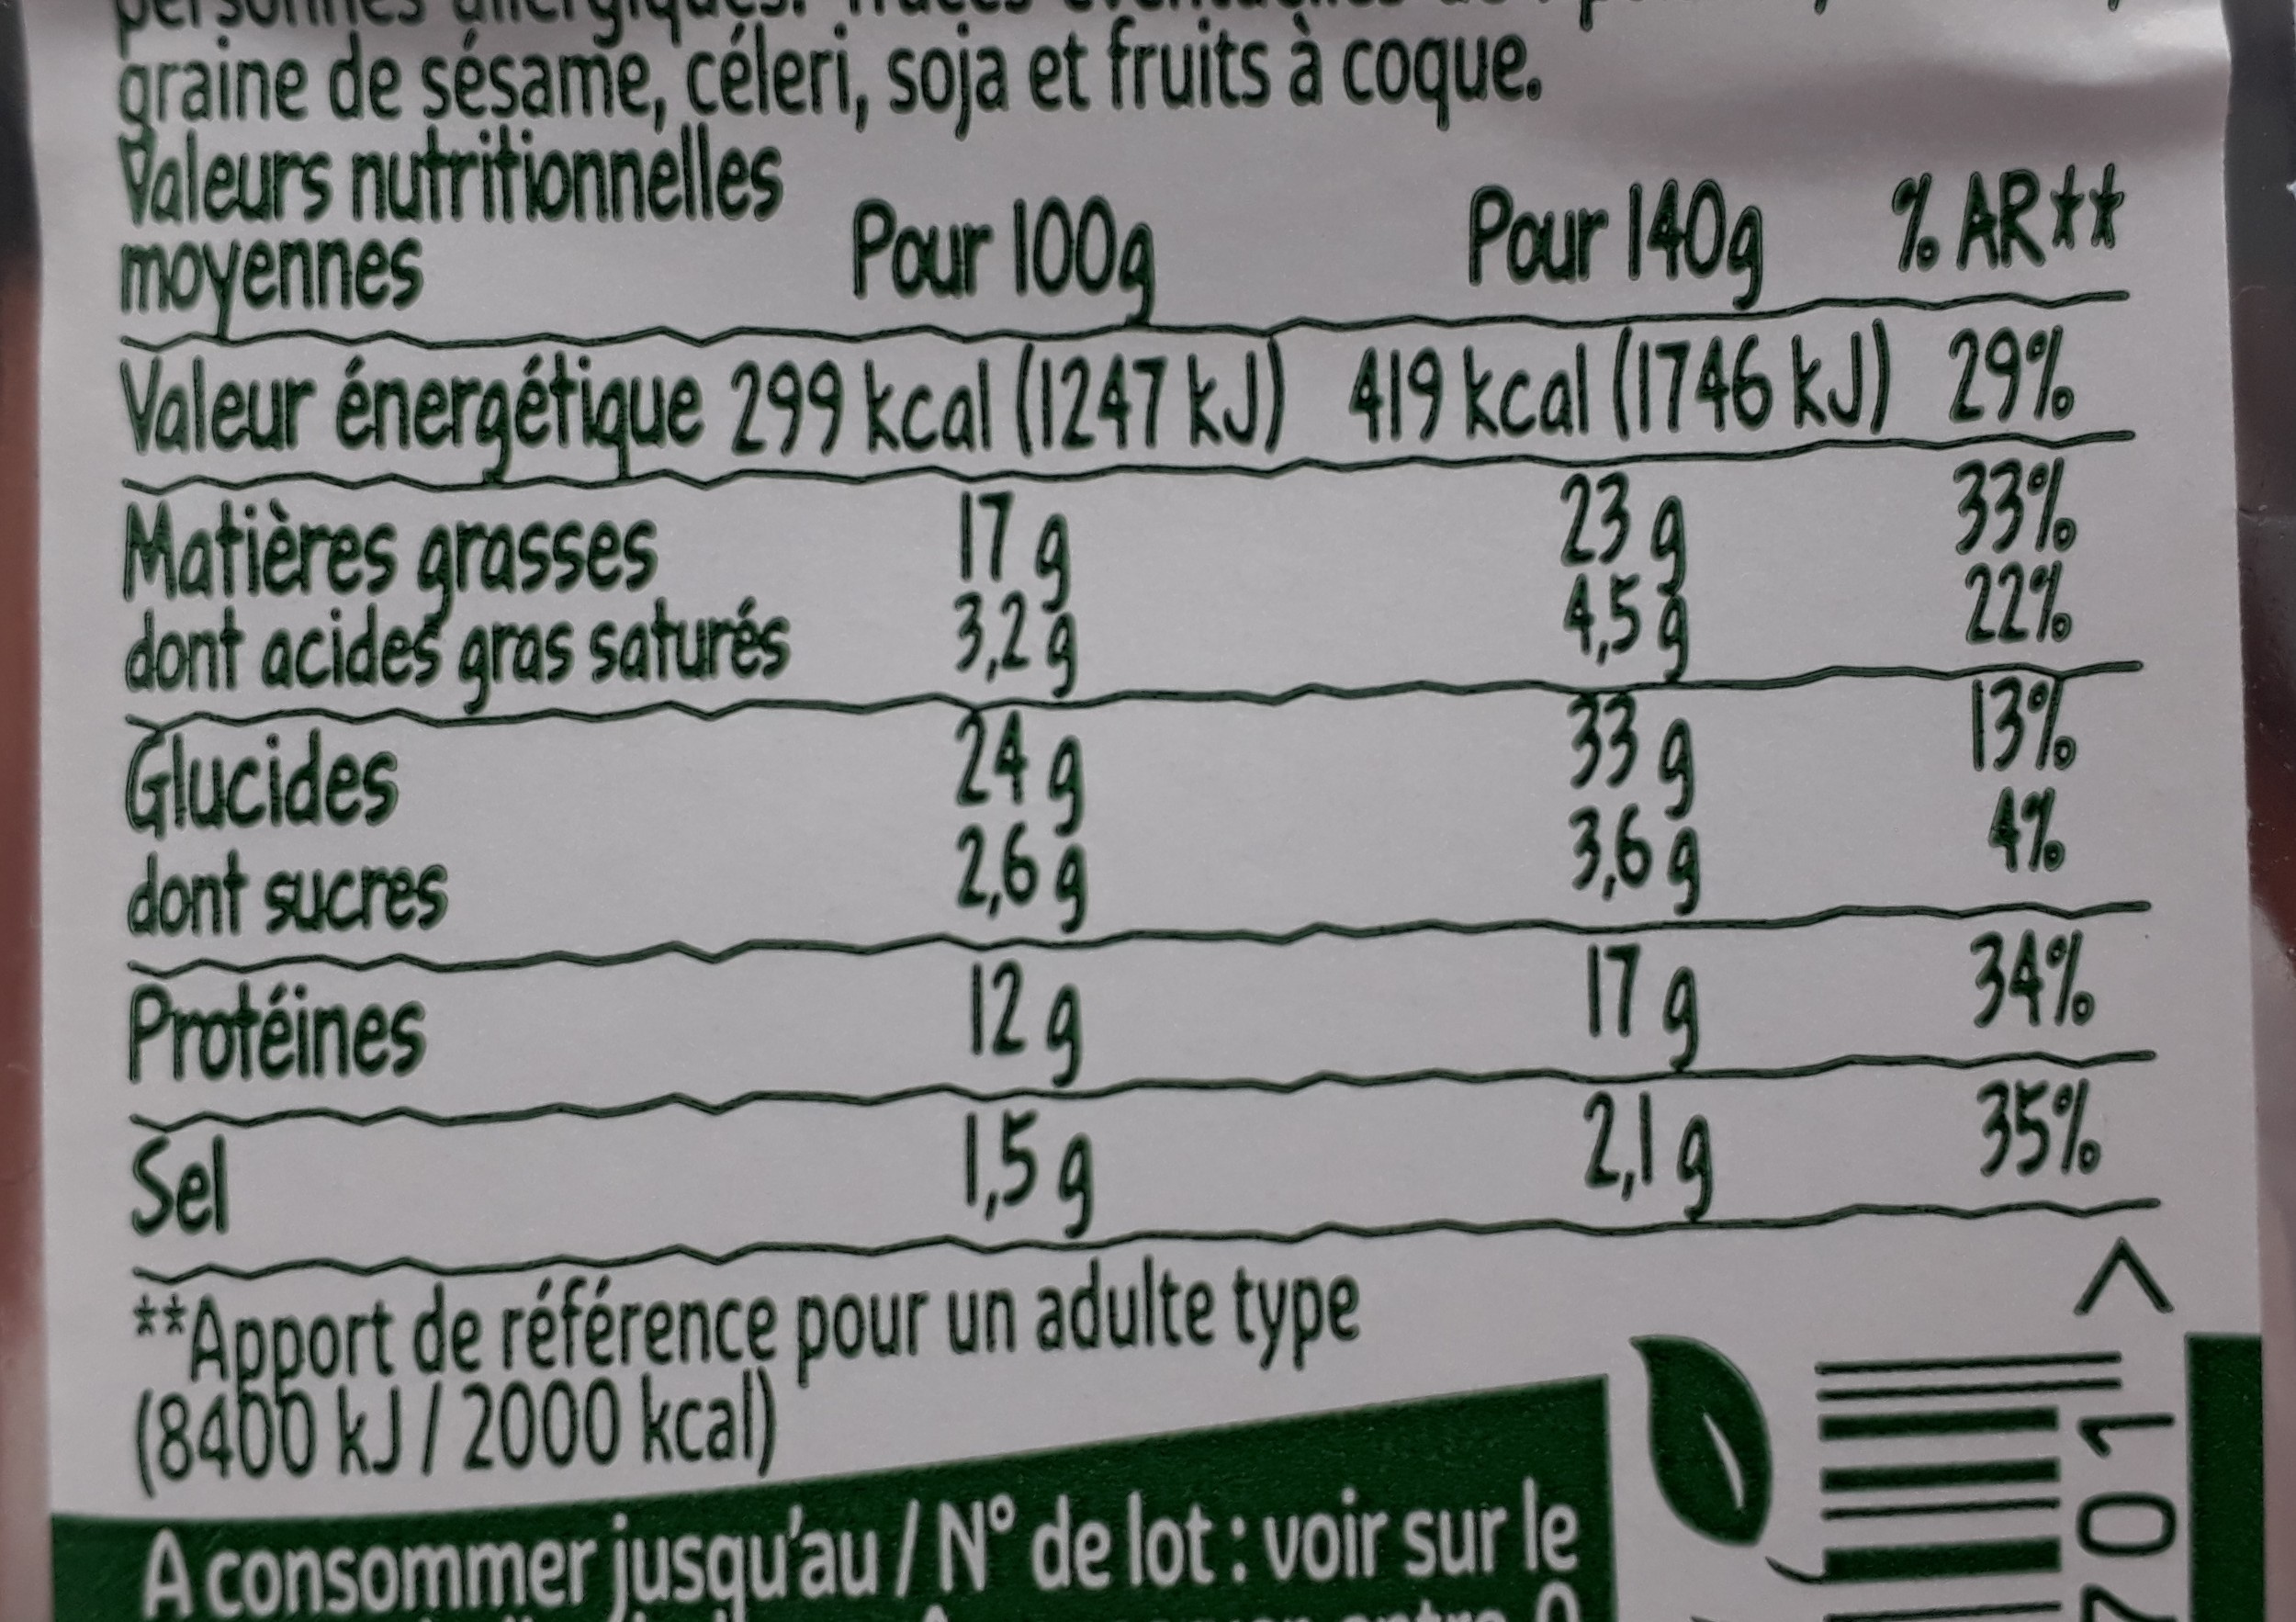column: (125, 139, 802, 1231), (1360, 151, 1889, 1236), (848, 198, 1283, 1236), (1950, 153, 2133, 1201)
table: (114, 126, 2164, 1269)
